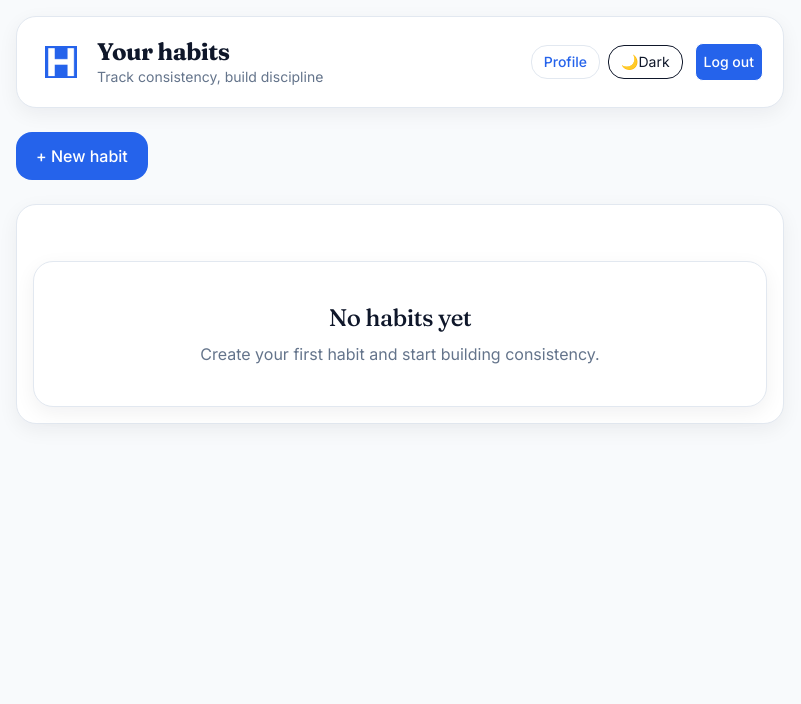
Scenario: habit form › shows a validation error when habit name is empty
What coordinates should you click on to do the following:
click the button with test id "create-habit-button"
I would click on:
 (82, 156)
Its box is [16,132,148,180].
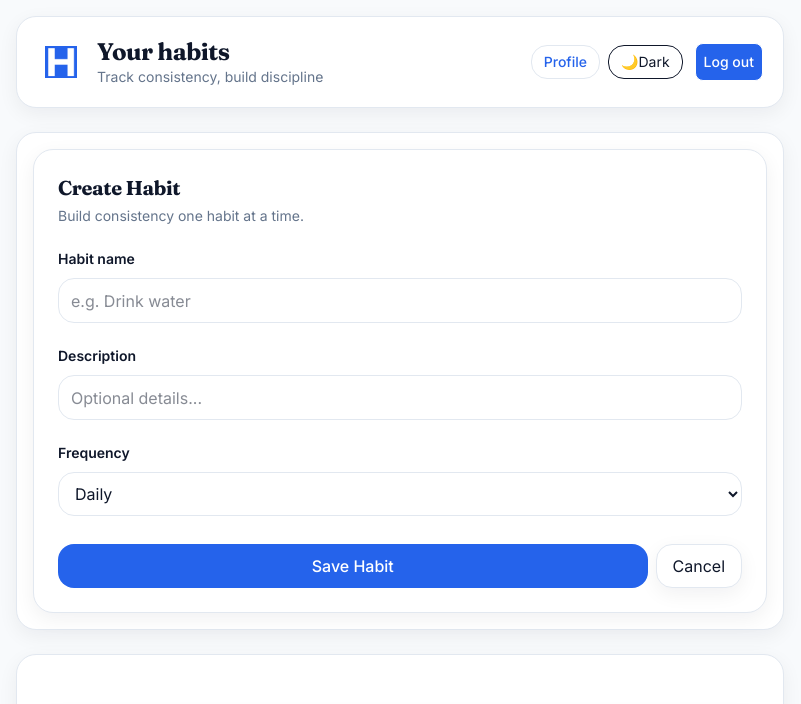
What coordinates should you click on to do the following:
click the button with test id "habit-save-button"
I would click on:
 (353, 566)
Its box is [58,544,648,588].
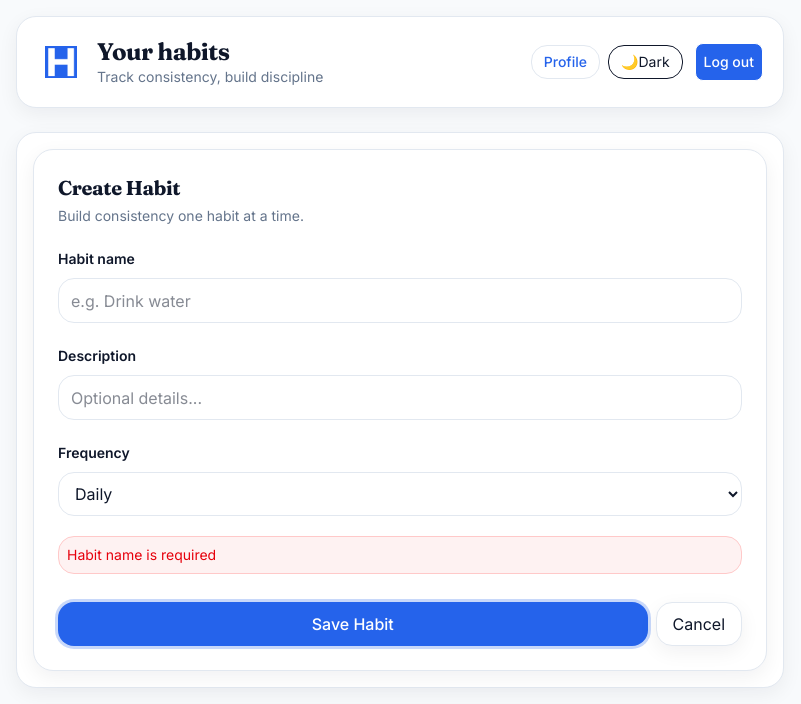
Result: the text "Habit name is required" is shown at [58,536,742,574]
